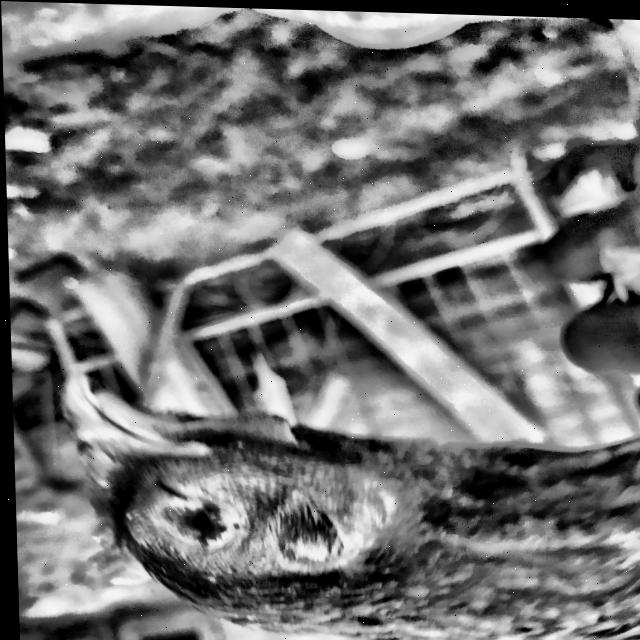Coryza: (14, 320, 480, 640)
